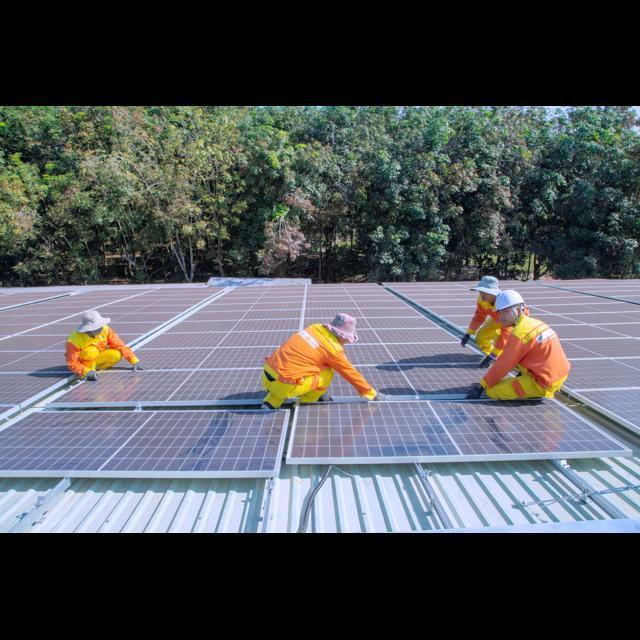helmet: (491, 280, 528, 318), (72, 304, 114, 336)
